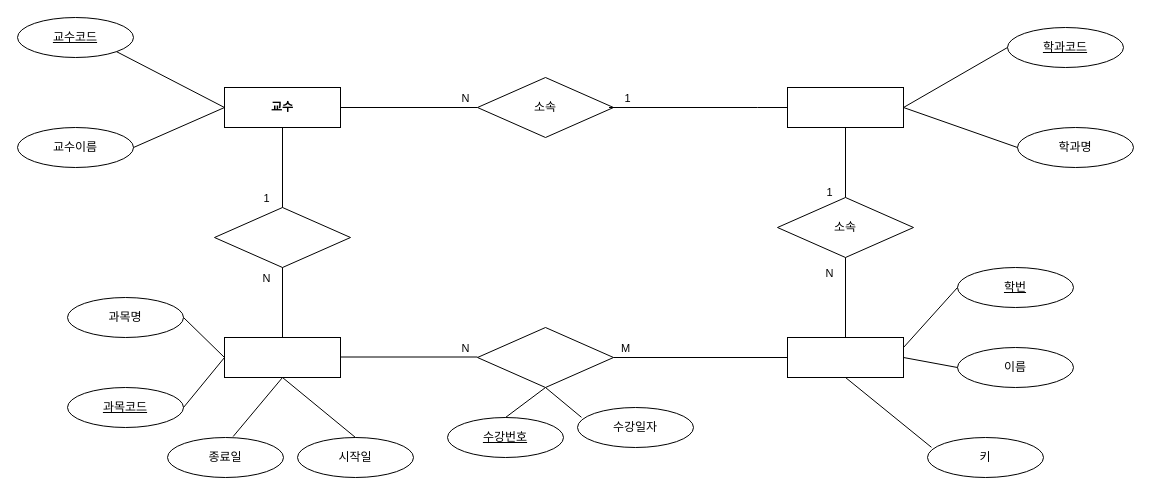
This 1151x495 diagram has some shape labels left out. Here are the shapes that lost their labels. From the top down, the centre of each, then its label:
At point (845, 107): "학과".
At point (282, 237): "강의".
At point (282, 357): "과목".
At point (545, 357): "수강".
At point (845, 357): "학생".
